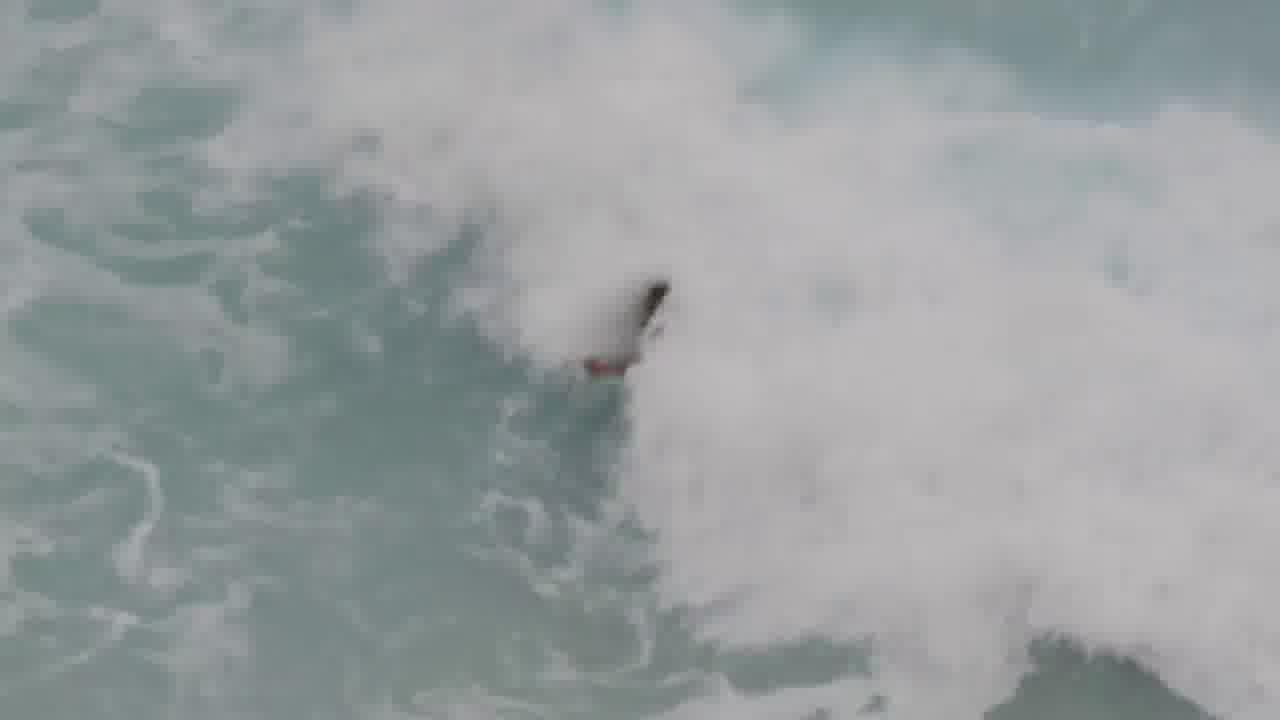human: (636, 268, 666, 417)
